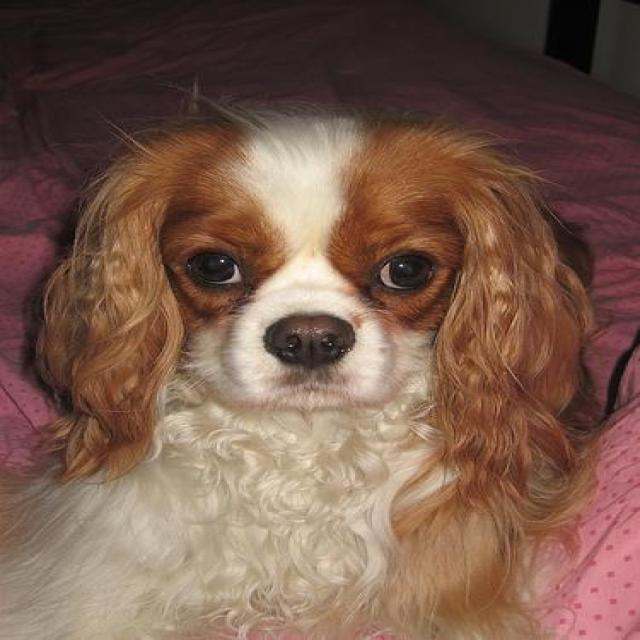blenheim_spaniel: (4, 119, 598, 637)
